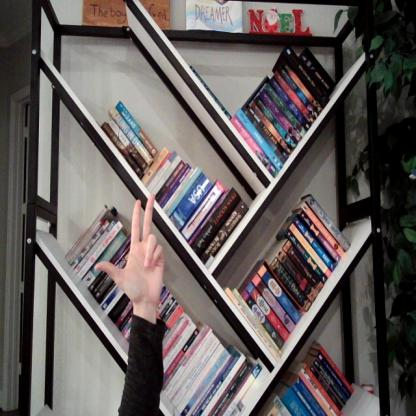three: (94, 195, 165, 314)
